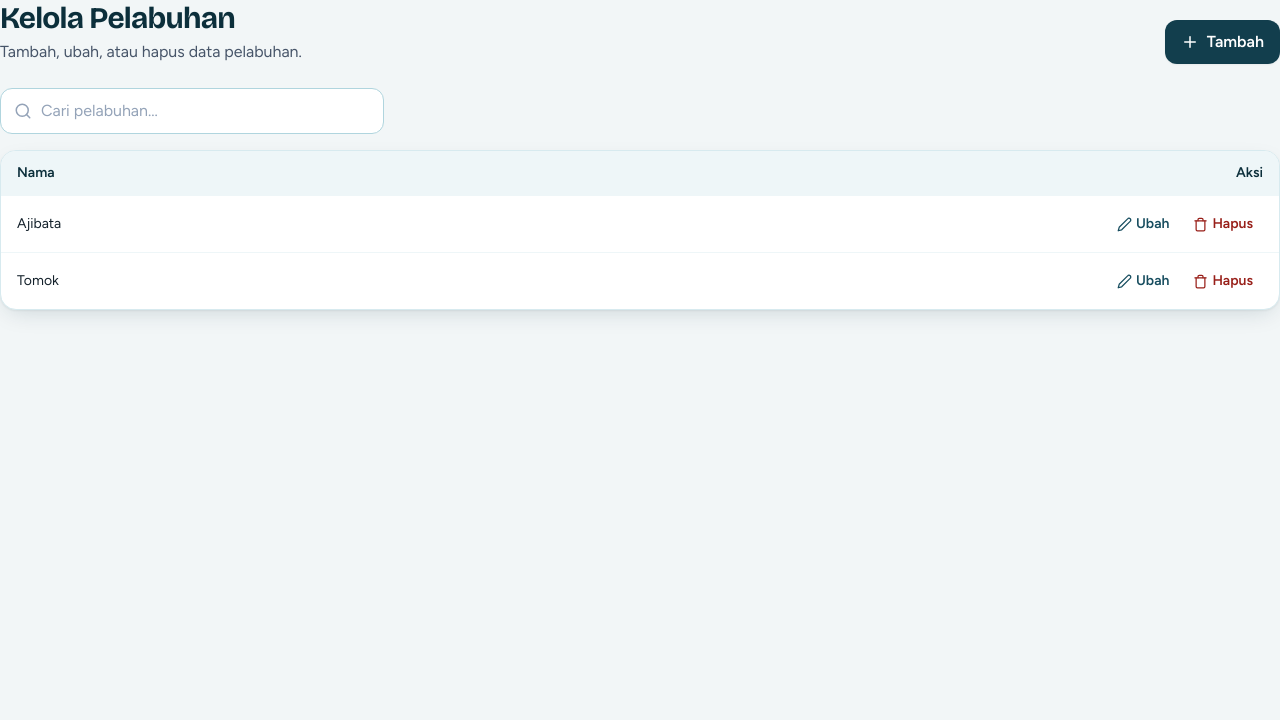
Test: AdminResourcePage › pelabuhan › simpan gagal menampilkan pesan dan error field, form tetap terbuka
Click the button "Tambah" at (1222, 42), box [1165, 20, 1279, 64]
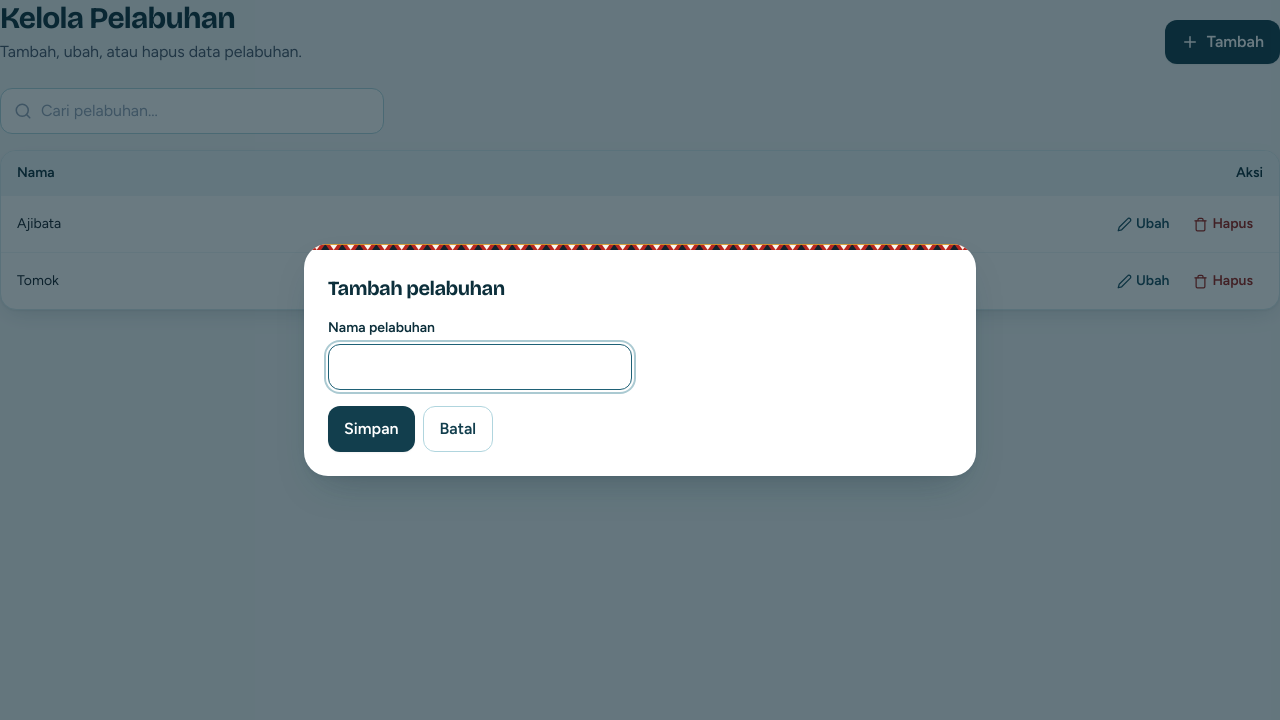
Type "A" into the field with id "f-name" at (480, 367), box [328, 344, 632, 390]
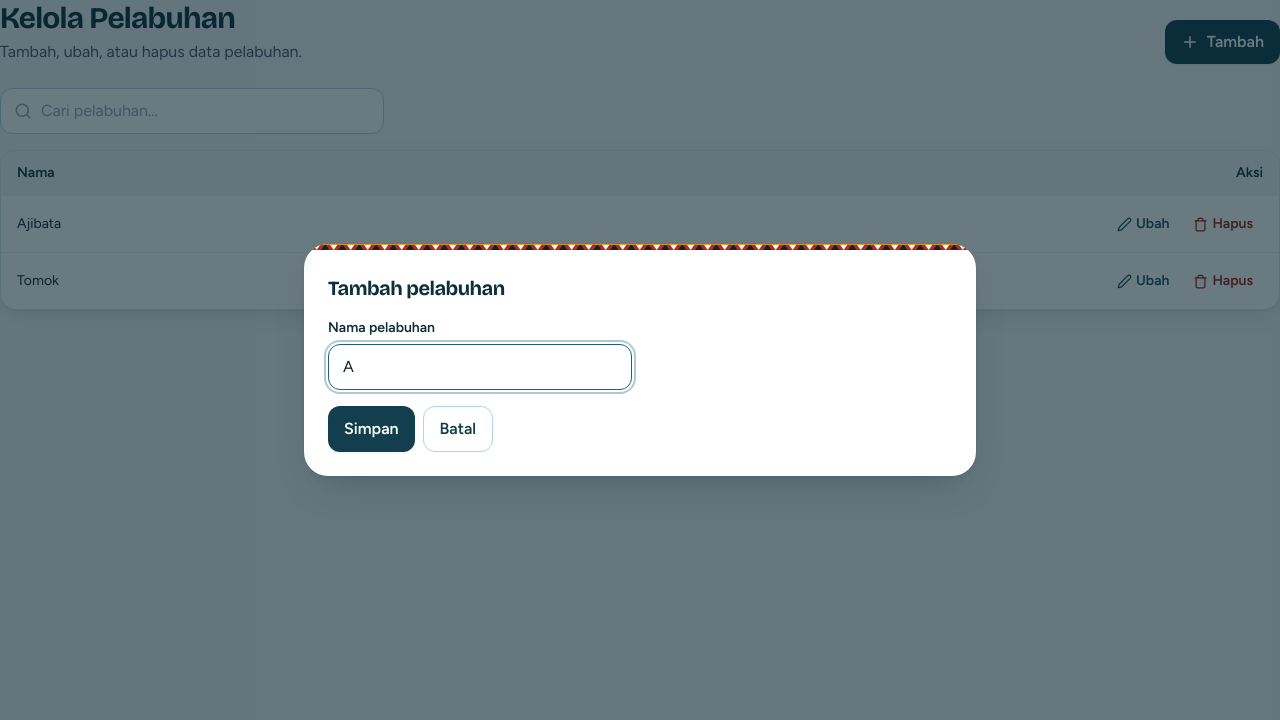
Submit the form, box [328, 276, 632, 452]
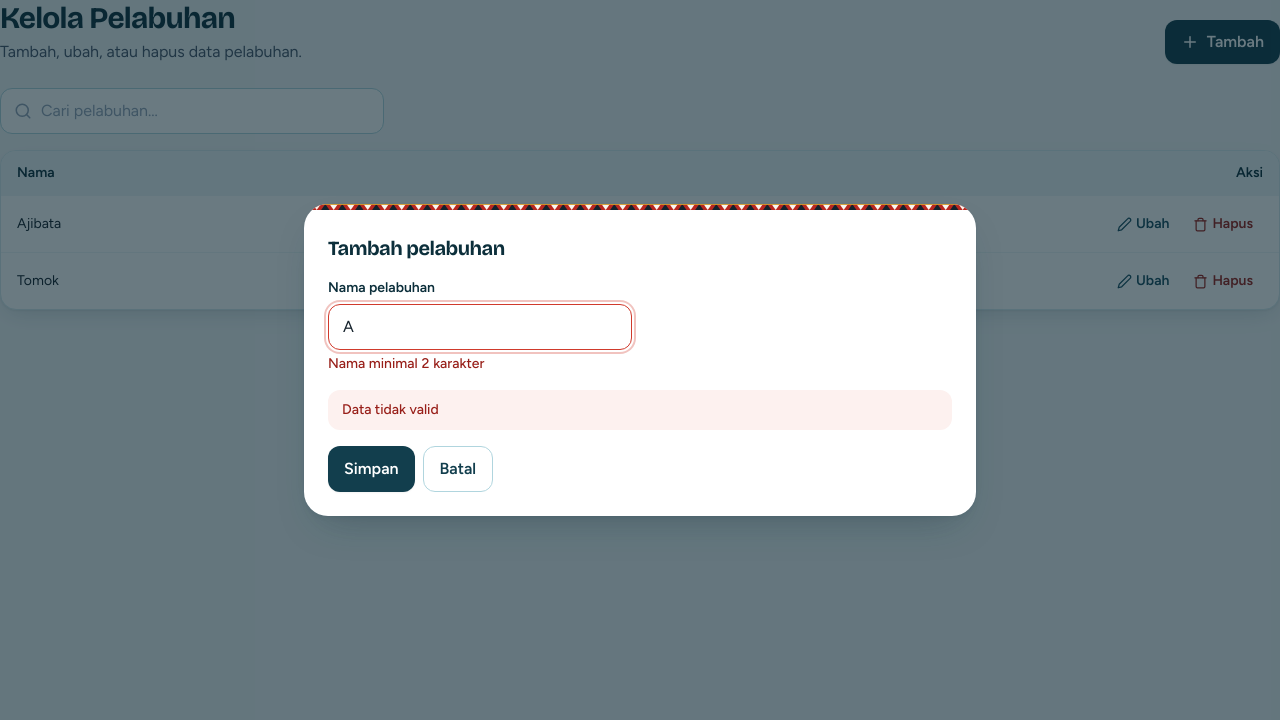
Now the form is shown, box [304, 210, 976, 516]
Now the text "Data tidak valid" is shown, box [328, 390, 952, 430]
Now the text "Nama minimal 2 karakter" is shown, box [328, 355, 484, 372]
